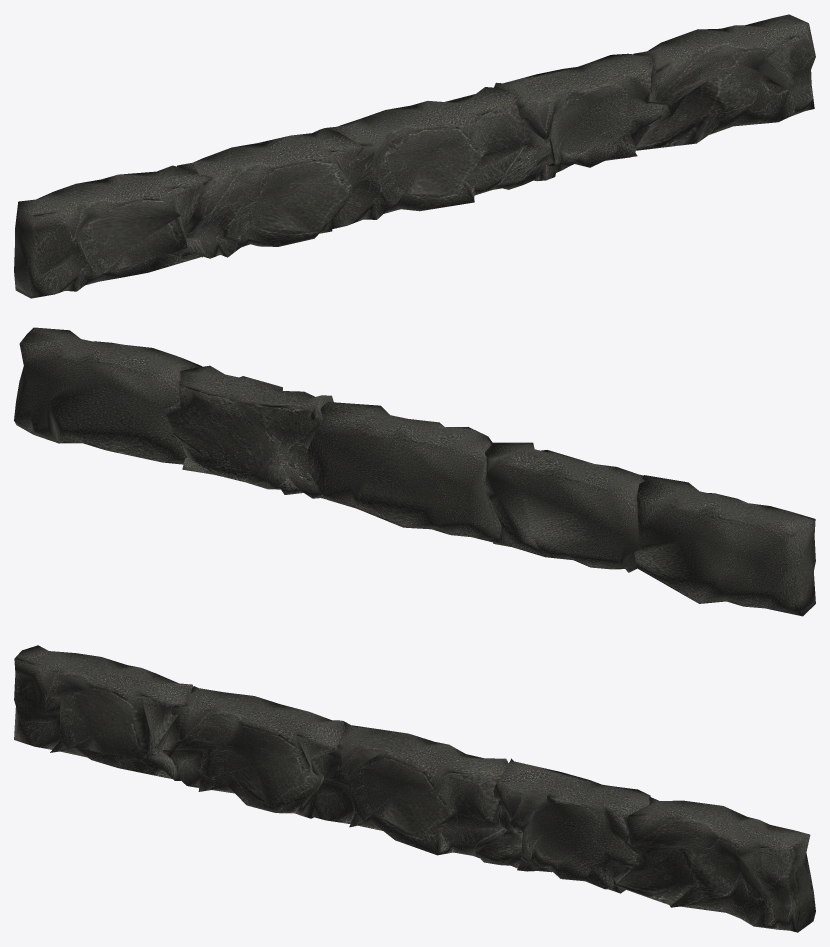
File: M7-Pared3-Blender.glb
The picture shows the model from 3 angles, top to bottom: view 1: azimuth 30°, elevation 25°; view 2: azimuth 150°, elevation 25°; view 3: azimuth 330°, elevation 25°; orthographic projection.
Visible parts, largest first — view 1: tripo_node_bd5e6c06-3c0e-4486-ab5b-3f0ddd31cfcc.007; view 2: tripo_node_bd5e6c06-3c0e-4486-ab5b-3f0ddd31cfcc.007; view 3: tripo_node_bd5e6c06-3c0e-4486-ab5b-3f0ddd31cfcc.007.
Part boxes in pixels (x1=…): tripo_node_bd5e6c06-3c0e-4486-ab5b-3f0ddd31cfcc.007: x1=14, y1=14, x2=815, y2=298; tripo_node_bd5e6c06-3c0e-4486-ab5b-3f0ddd31cfcc.007: x1=14, y1=327, x2=815, y2=616; tripo_node_bd5e6c06-3c0e-4486-ab5b-3f0ddd31cfcc.007: x1=14, y1=645, x2=815, y2=932.
Bounding box in the file's own units: 42.59 × 5.27 × 4.11.
8 materials, 8 textured.
